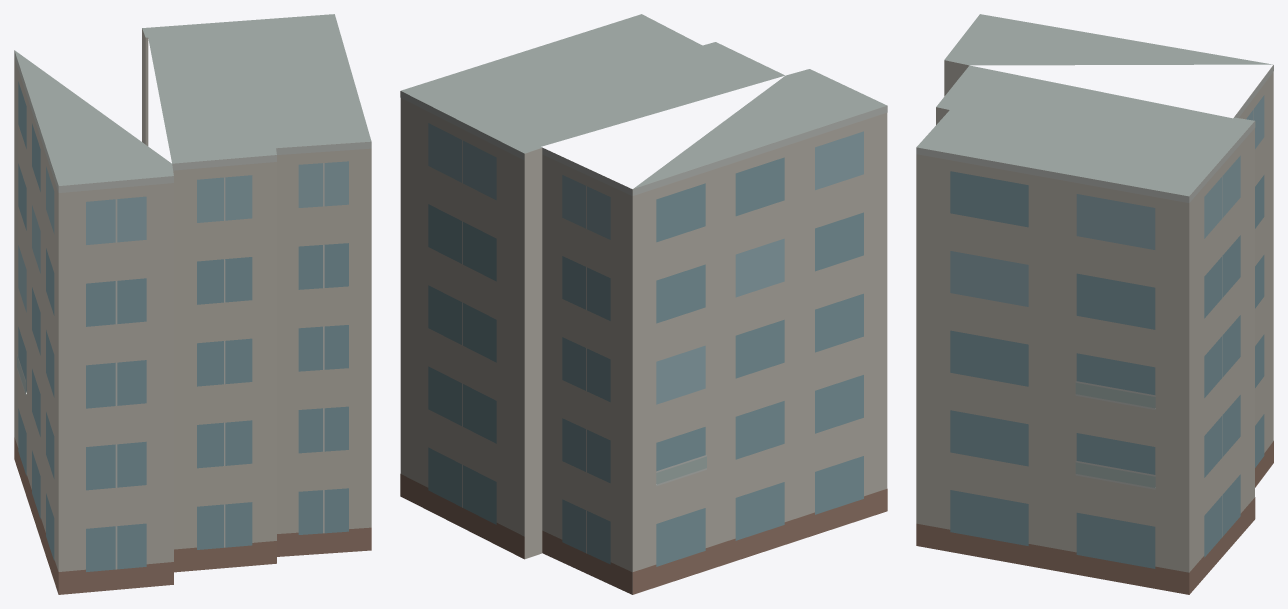
Rendered from survey-upis-32901120.glb.
The picture shows the model from 3 angles, left to right: view 1: azimuth 30°, elevation 25°; view 2: azimuth 150°, elevation 25°; view 3: azimuth 270°, elevation 25°; orthographic projection. The views are drawn at different scales.
Visible parts, largest first — view 1: survey-upis-32901120.tmp; view 2: survey-upis-32901120.tmp; view 3: survey-upis-32901120.tmp.
Part boxes in pixels (x1=…): survey-upis-32901120.tmp: x1=14, y1=14, x2=371, y2=594; survey-upis-32901120.tmp: x1=400, y1=14, x2=887, y2=594; survey-upis-32901120.tmp: x1=916, y1=14, x2=1273, y2=594.
Bounding box in the file's own units: 14.05 × 14.3 × 11.63.
